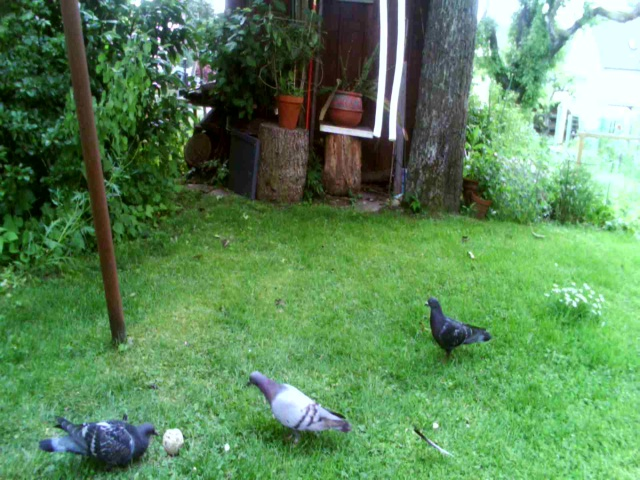Pigeon: (244, 363, 349, 445), (34, 412, 165, 465), (421, 287, 491, 370)
